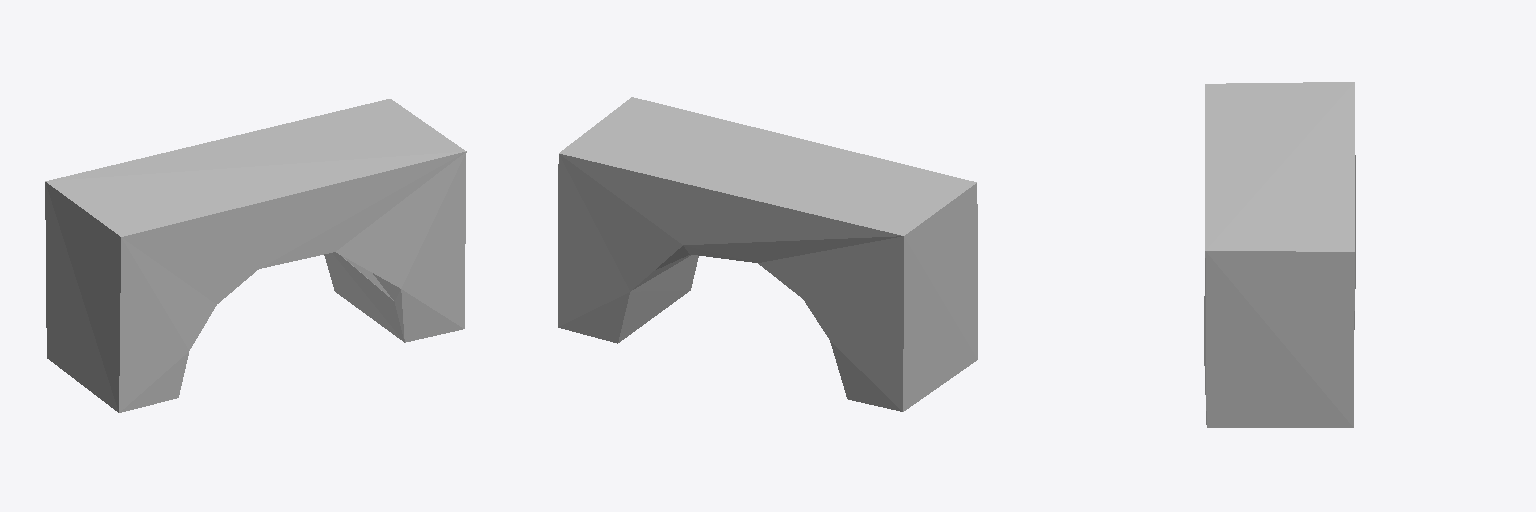
File: Bridge_decimated_convex.obj
3 renders of one model, left to right at view 1: azimuth 30°, elevation 25°; view 2: azimuth 150°, elevation 25°; view 3: azimuth 270°, elevation 25°, orthographic.
Parts seen in each view (by area): view 1: my_mesh_Bridge.001; view 2: my_mesh_Bridge.001; view 3: my_mesh_Bridge.001.
Boxes of the visible parts, box(x1,y1,x2,y2) form: my_mesh_Bridge.001: box(45, 99, 466, 412); my_mesh_Bridge.001: box(558, 97, 977, 411); my_mesh_Bridge.001: box(1204, 82, 1355, 427).
Bounding box in the file's own units: 49.87 × 24.6 × 19.03.